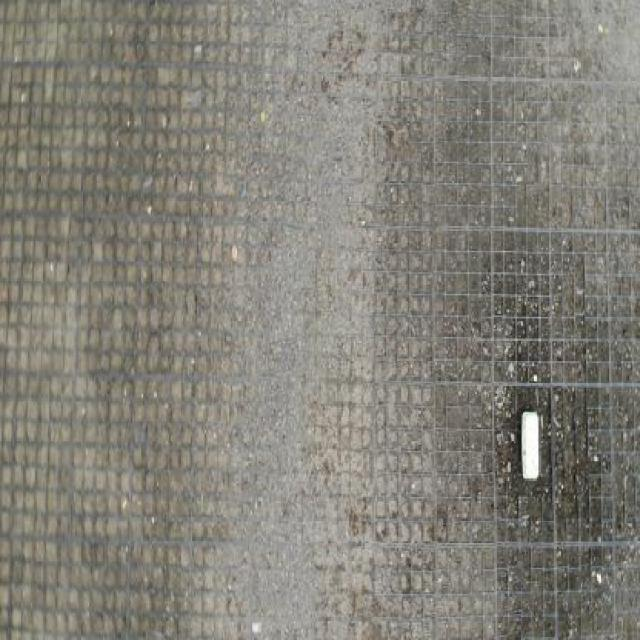Garbage: (521, 411, 539, 478)
